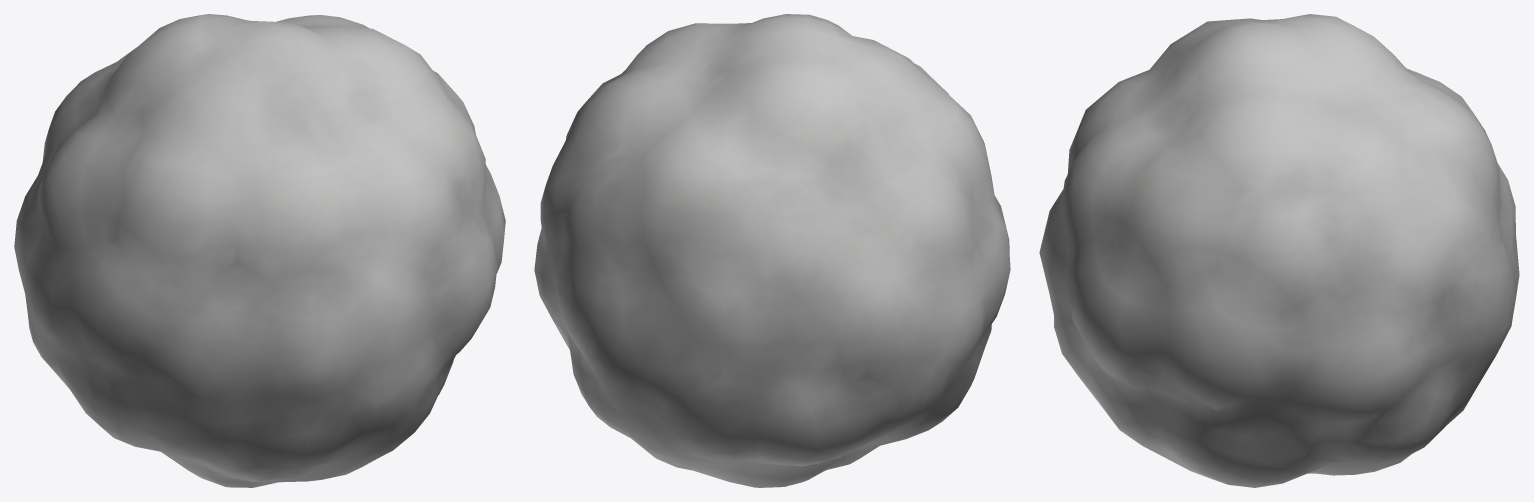
Rendered from Snowball.glb.
3 renders of one model, left to right at view 1: azimuth 30°, elevation 25°; view 2: azimuth 150°, elevation 25°; view 3: azimuth 270°, elevation 25°, orthographic. The views are drawn at different scales.
Parts seen in each view (by area): view 1: Snowball; view 2: Snowball; view 3: Snowball.
Part boxes in pixels (<box>): Snowball: <box>14,14,505,487</box>; Snowball: <box>534,14,1010,487</box>; Snowball: <box>1039,14,1519,487</box>.
Bounding box in the file's own units: 226 × 228 × 228.
Materials: 1 (1 with a texture image).
